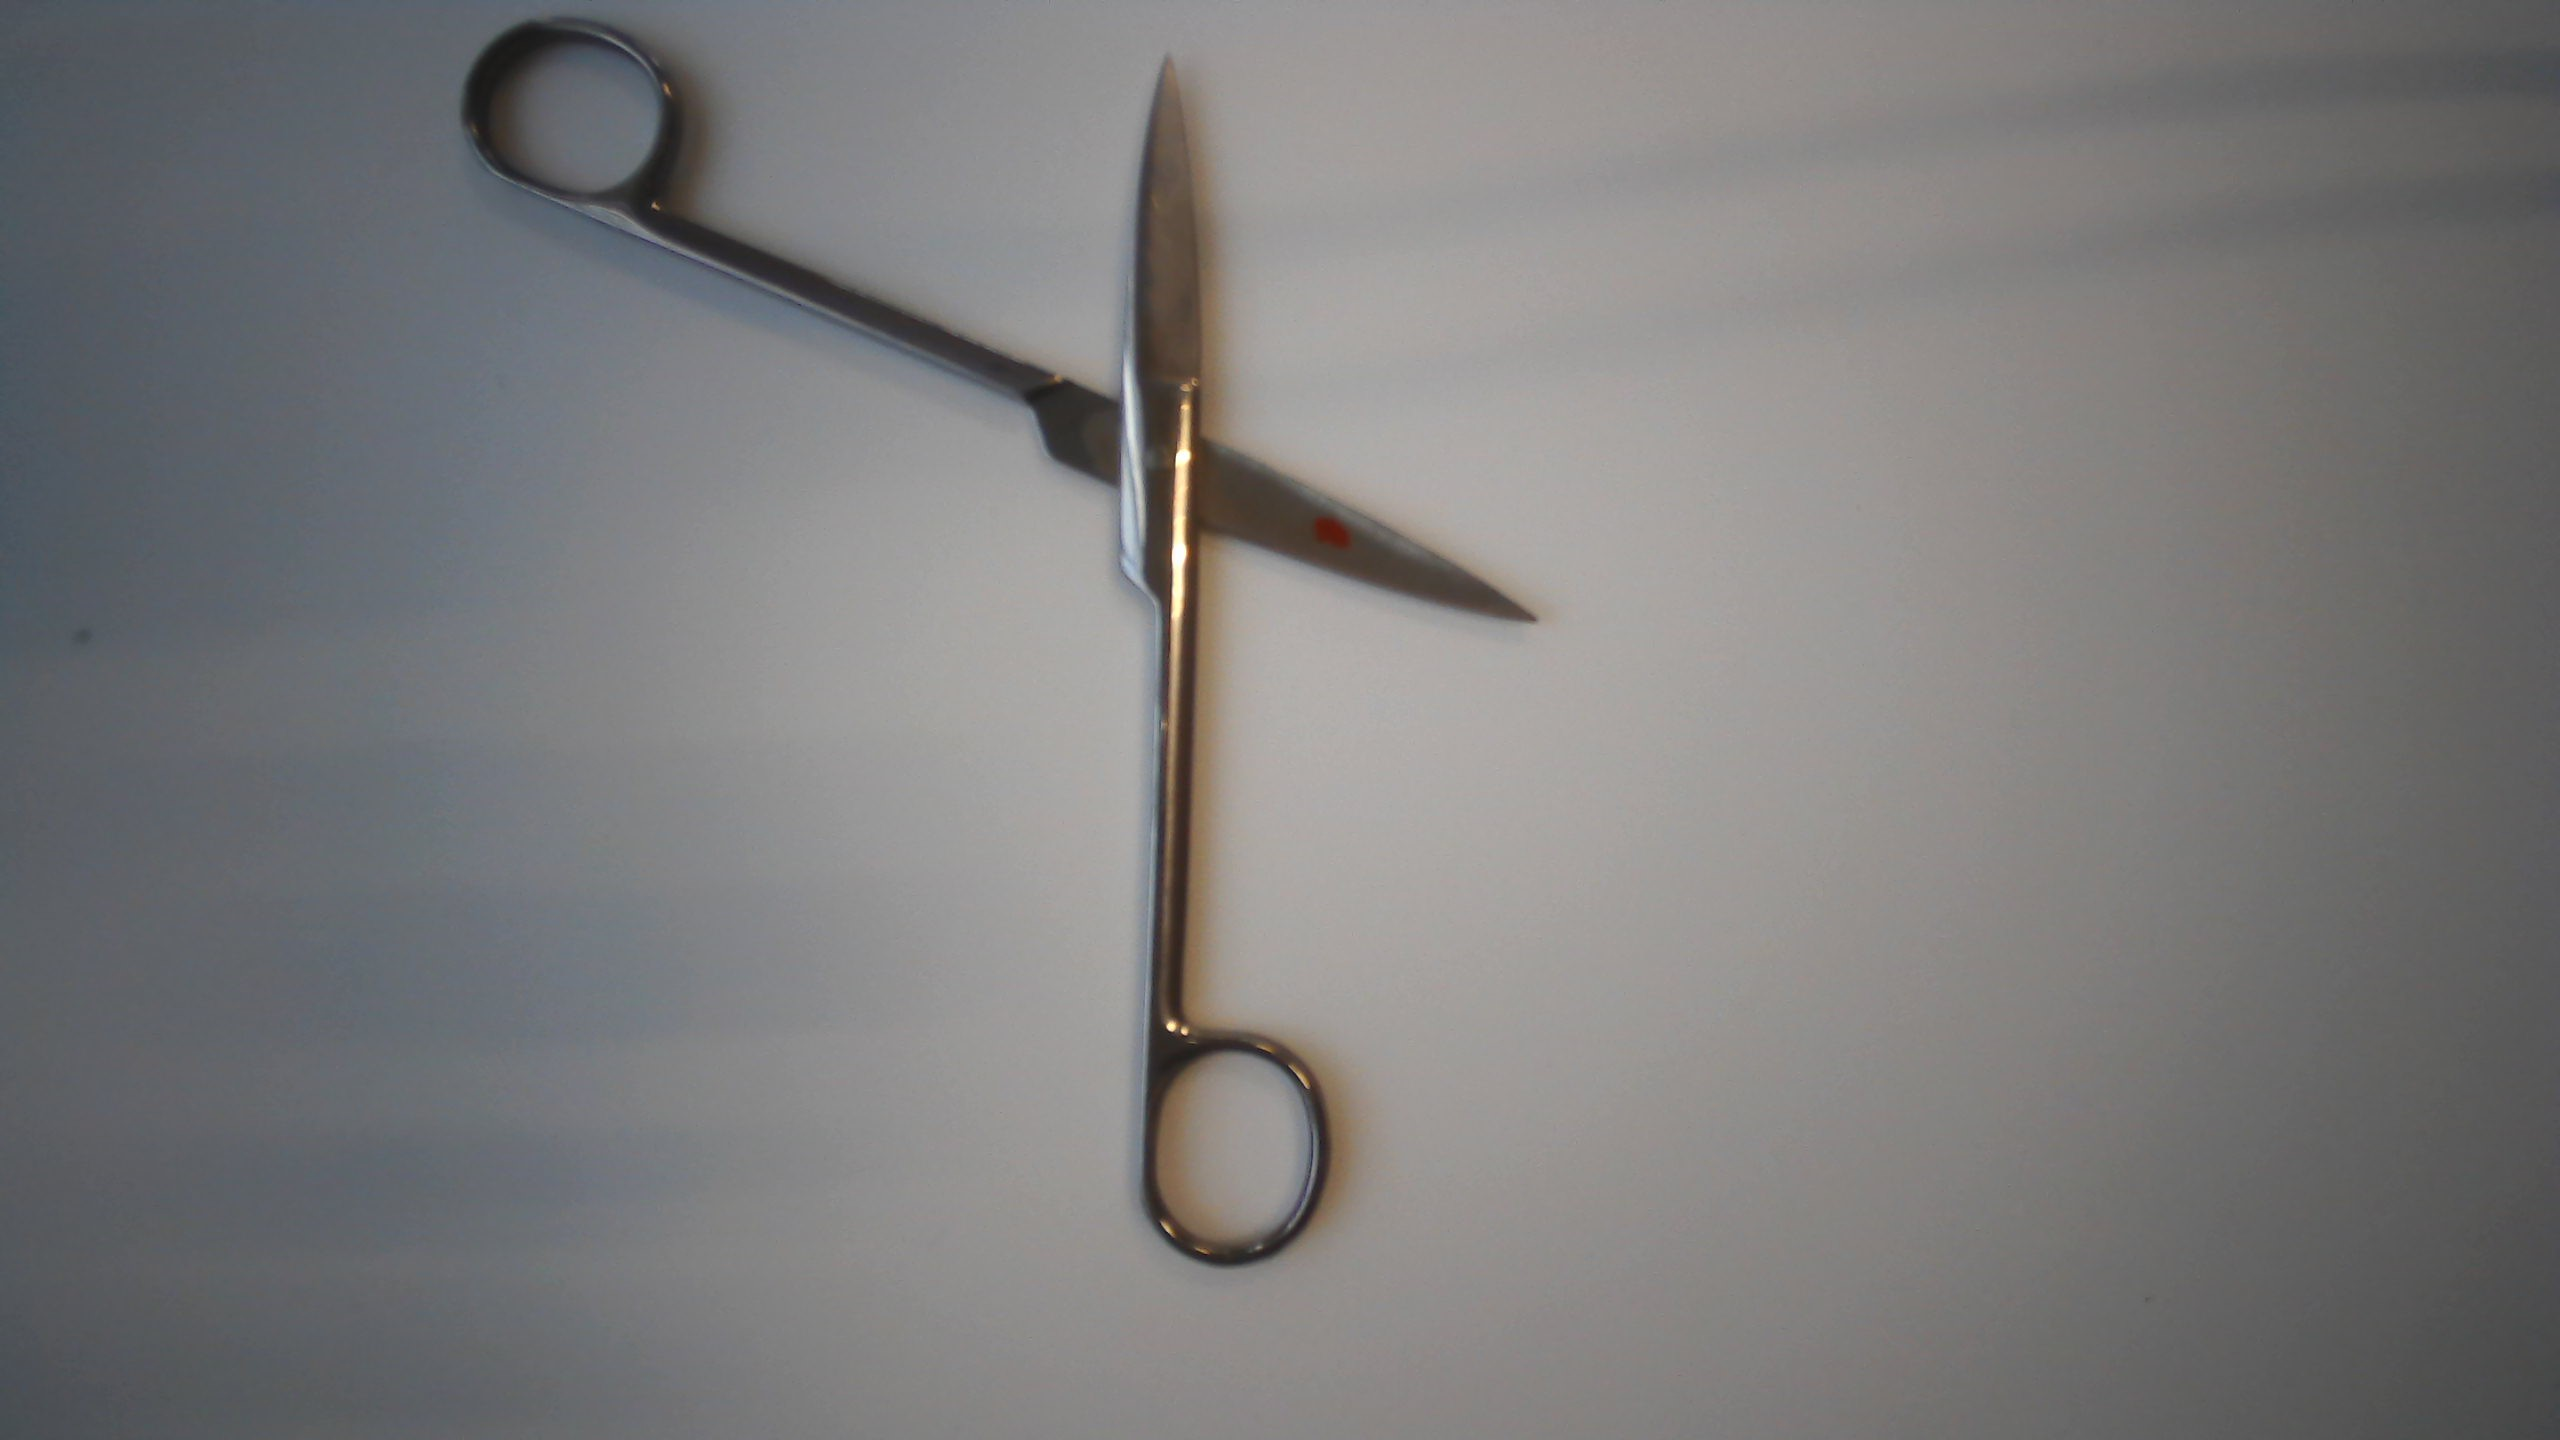Stain: (1292, 513, 1364, 561)
